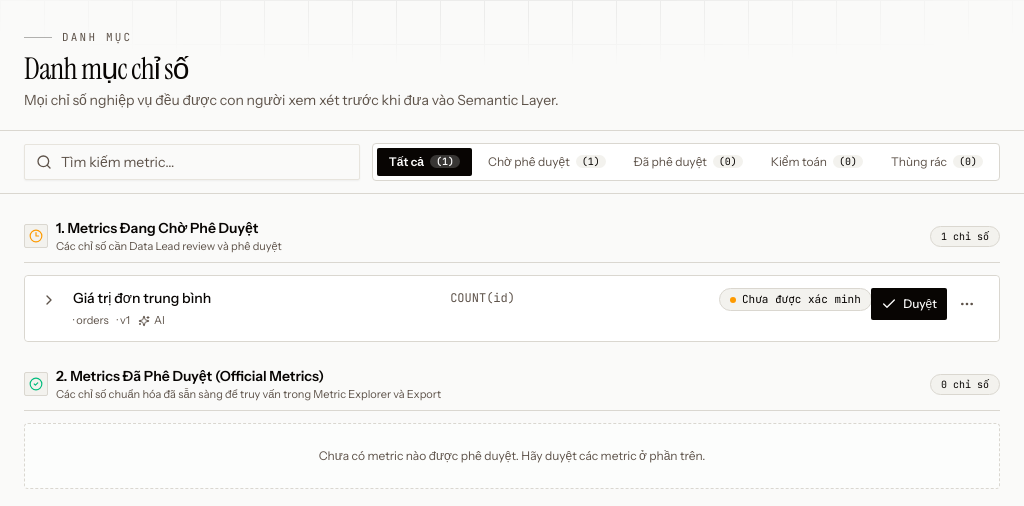
Test: MetricsCatalogView › gives Data Lead edit, approve, and delete actions for unverified metrics
Click the heading named "Thao tác với" at (967, 304), box 959,296 -> 975,312
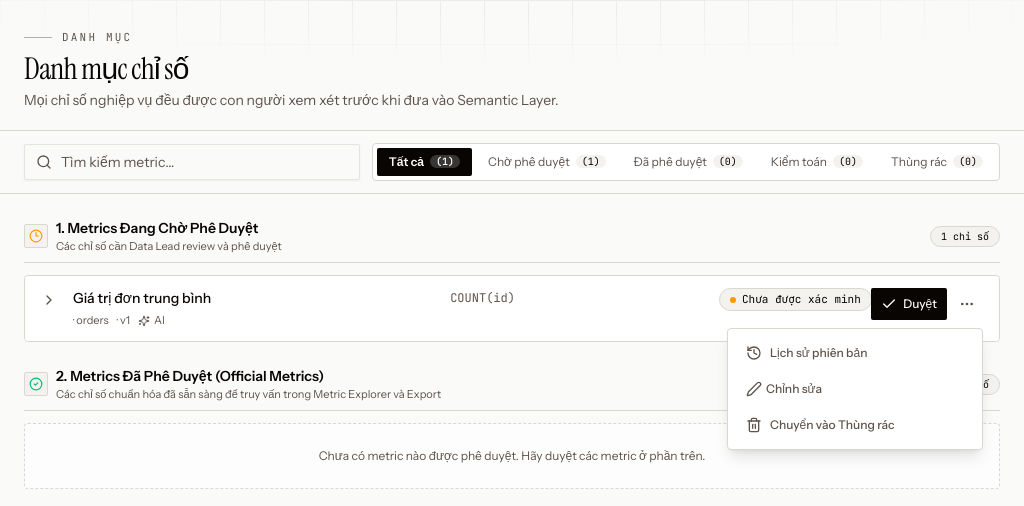
expect the button with aria-label "Duyệt chỉ số này" is shown: met, box 871,288 -> 947,320
expect the button "Chỉnh sửa" is shown: met, box 736,373 -> 974,405
expect the button titled "Chuyển vào Thùng rác" is shown: met, box 736,409 -> 974,441
